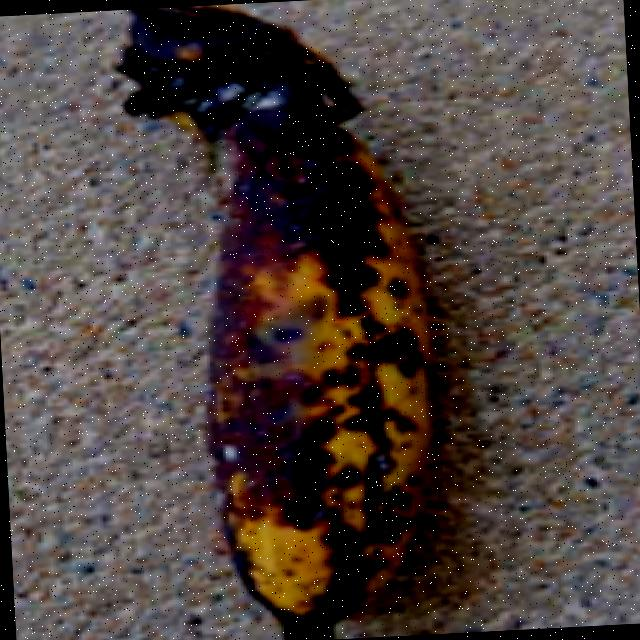Rotten: (52, 0, 525, 640)
